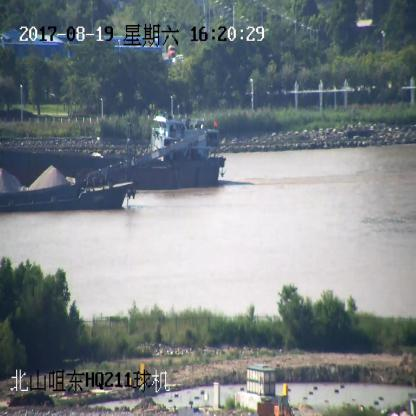Bulk Carrier: (0, 113, 224, 186)
